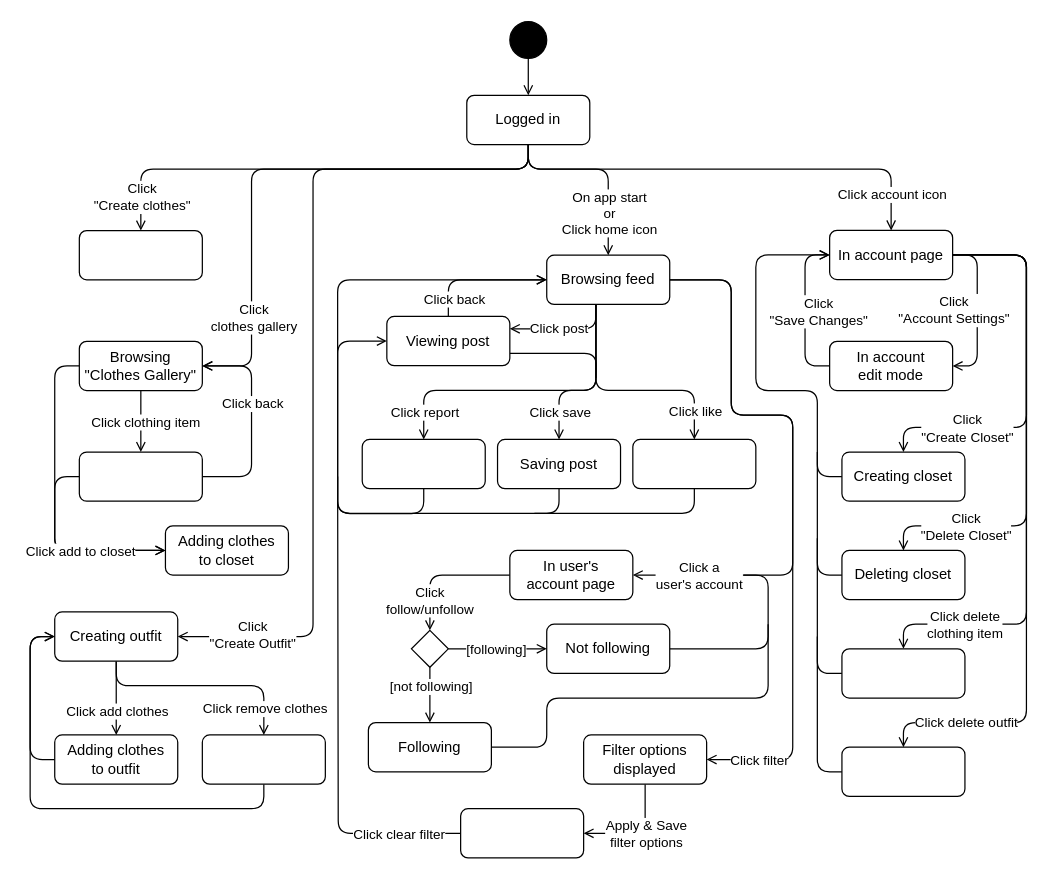
This 1058x879 diagram has some shape labels left out. Each missing label, with the centre of its shape:
"Creating clothing item" belongs at [140,254].
"Deleting clothing item" belongs at [903,673].
"Deleting outfit" belongs at [903,771].
"Feed filtered" belongs at [521,832].
"Liking post" belongs at [694,463].
"Removing clothes from outfit" belongs at [263,759].
"Reporting post" belongs at [423,463].
"Viewing clothing item" belongs at [140,476].
